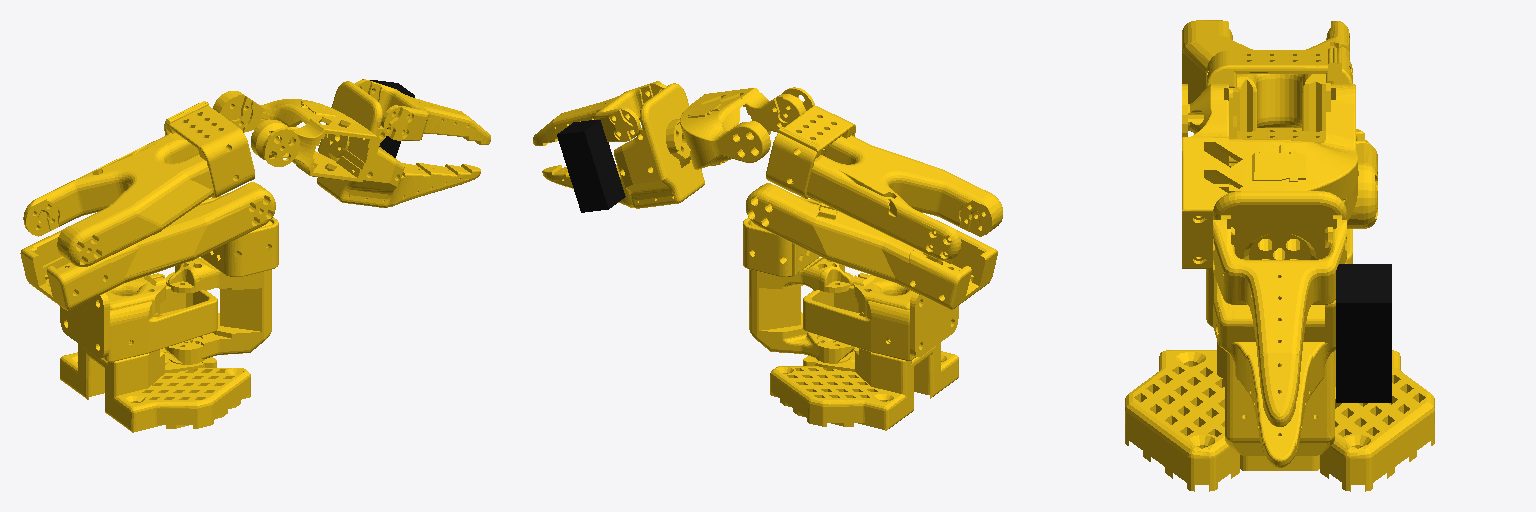
robot.urdf — so_arm100:
<?xml version='1.0' encoding='utf-8'?>
<robot name="so_arm100">
  
  <link name="world"/>
  <joint name="world_fixed" type="fixed">
    <parent link="world"/>
    <child link="base"/>
    <origin xyz="0 0 0" rpy="0 0 1.5708"/>
  </joint>

  <material name="3d_printed"><color rgba="1.0 0.82 0.12 1.0"/></material>
  <material name="sts3215"><color rgba="0.1 0.1 0.1 1.0"/></material>

  <link name="base">
    <inertial>
      <mass value="1.0"/>
      <origin xyz="0 0 0" rpy="0 0 0"/>
      <inertia ixx="0.01" ixy="0" ixz="0" iyy="0.01" iyz="0" izz="0.01"/>
    </inertial>
    <visual>
      <geometry><mesh filename="package://so_arm100_gym_description/models/so_arm100/assets/Base.dae"/></geometry>
      <material name="3d_printed"/>
    </visual>
    <collision>
      <geometry>
        <box size="0.1 0.1 0.1"/>
      </geometry>
    </collision>
  </link>

  <link name="shoulder">
    <inertial>
      <mass value="0.119226"/>
      <origin xyz="-9.07886e-05 0.0590972 0.031089" rpy="0 0 0"/>
      <inertia ixx="5.94278e-05" ixy="0" ixz="0" iyy="5.89975e-05" iyz="0" izz="3.13712e-05"/>
    </inertial>
    <visual>
      <geometry><mesh filename="package://so_arm100_gym_description/models/so_arm100/assets/Rotation_Pitch.dae"/></geometry>
      <material name="3d_printed"/>
    </visual>
    <collision>
      <geometry>
        <box size="0.06 0.09 0.065"/>
      </geometry>
    </collision>
  </link>

  <link name="upper_arm">
    <inertial>
      <mass value="0.162409"/>
      <origin xyz="-1.72052e-05 0.0701802 0.00310545" rpy="0 0 0"/>
      <inertia ixx="0.000213312" ixy="0" ixz="0" iyy="0.000167164" iyz="0" izz="7.01522e-05"/>
    </inertial>
    <visual>
      <geometry><mesh filename="package://so_arm100_gym_description/models/so_arm100/assets/Upper_Arm.dae"/></geometry>
      <material name="3d_printed"/>
    </visual>
    <collision>
      <geometry>
        <box size="0.08 0.1535 0.025"/>
      </geometry>
    </collision>
  </link>

  <link name="lower_arm">
    <inertial>
      <mass value="0.147968"/>
      <origin xyz="-0.00339604 0.00137796 0.0768007" rpy="0 0 0"/>
      <inertia ixx="0.000138803" ixy="0" ixz="0" iyy="0.000107748" iyz="0" izz="4.84242e-05"/>
    </inertial>
    <visual>
      <geometry><mesh filename="package://so_arm100_gym_description/models/so_arm100/assets/Lower_Arm.dae"/></geometry>
      <material name="3d_printed"/>
    </visual>
    <collision>
      <geometry>
        <box size="0.06 0.04 0.12"/>
      </geometry>
    </collision>
  </link>

  <link name="wrist">
    <inertial>
      <mass value="0.0661321"/>
      <origin xyz="-0.00852653 -0.0352279 -2.34622e-05" rpy="0 0 0"/>
      <inertia ixx="3.45403e-05" ixy="0" ixz="0" iyy="2.39041e-05" iyz="0" izz="1.94704e-05"/>
    </inertial>
    <visual>
      <geometry><mesh filename="package://so_arm100_gym_description/models/so_arm100/assets/Wrist_Pitch_Roll.dae"/></geometry>
      <material name="3d_printed"/>
    </visual>
    <collision>
      <geometry>
        <box size="0.065 0.075 0.035"/>
      </geometry>
    </collision>
  </link>

  <link name="gripper">
    <inertial>
      <mass value="0.1"/> <origin xyz="0.0055 -0.0280 0.0004" rpy="0 0 0"/>
      <inertia ixx="0.0001" ixy="0" ixz="0" iyy="0.0001" iyz="0" izz="0.0001"/>
    </inertial>
    <visual>
      <geometry><mesh filename="package://so_arm100_gym_description/models/so_arm100/assets/Fixed_Jaw.dae"/></geometry>
      <material name="3d_printed"/>
    </visual>
    <collision>
      <geometry>
        <box size="0.05 0.105 0.065"/>
      </geometry>
    </collision>
  </link>

  <link name="jaw">
    <inertial>
      <mass value="0.1"/> <origin xyz="-0.0016 -0.0303 0.0004" rpy="0 0 0"/>
      <inertia ixx="0.0001" ixy="0" ixz="0" iyy="0.0001" iyz="0" izz="0.0001"/>
    </inertial>
    <visual>
      <geometry><mesh filename="package://so_arm100_gym_description/models/so_arm100/assets/Moving_Jaw.dae"/></geometry>
      <material name="3d_printed"/>
    </visual>
    <collision>
      <geometry>
        <box size="0.025 0.09 0.05"/>
      </geometry>
    </collision>
  </link>

  <joint name="shoulder_pan" type="revolute">
    <parent link="base"/><child link="shoulder"/>
    <origin xyz="0 -0.0452 0.0165" rpy="1.57079 0 0"/>
    <axis xyz="0 1 0"/><limit lower="-2" upper="2" effort="35" velocity="5"/>
    <dynamics damping="0.1" friction="0.05"/>
  </joint>

  <joint name="shoulder_lift" type="revolute">
    <parent link="shoulder"/><child link="upper_arm"/>
    <origin xyz="0 0.1025 0.0306" rpy="-1.8 0 0"/>
    <axis xyz="1 0 0"/><limit lower="0" upper="3.5" effort="35" velocity="5"/>
    <dynamics damping="0.1" friction="0.05"/>
  </joint>

  <joint name="elbow_flex" type="revolute">
    <parent link="upper_arm"/><child link="lower_arm"/>
    <origin xyz="0 0.11257 0.028" rpy="1.57079 0 0"/>
    <axis xyz="1 0 0"/><limit lower="-3.14158" upper="0" effort="35" velocity="5"/>
    <dynamics damping="0.1" friction="0.05"/>
  </joint>

  <joint name="wrist_flex" type="revolute">
    <parent link="lower_arm"/><child link="wrist"/>
    <origin xyz="0 0.0052 0.1349" rpy="-1 0 0"/>
    <axis xyz="1 0 0"/>
    <limit lower="-2.5" upper="1.2" effort="35" velocity="5"/>
    <dynamics damping="1.5" friction="0.5"/> 
  </joint>

  <joint name="wrist_roll" type="revolute">
    <parent link="wrist"/><child link="gripper"/>
    <origin xyz="0 -0.0601 0" rpy="0 1.57079 0"/>
    <axis xyz="0 1 0"/><limit lower="-3.14158" upper="3.14158" effort="35" velocity="5"/>
    <dynamics damping="0.1" friction="0.1"/>
  </joint>

  <joint name="gripper_joint" type="revolute">
    <parent link="gripper"/><child link="jaw"/>
    <origin xyz="-0.0202 -0.0244 0" rpy="0 3.14158 0"/>
    <axis xyz="0 0 1"/>
    <limit lower="-0.2" upper="2.0" effort="10" velocity="3"/>
    <dynamics damping="1.0" friction="0.8"/> 
  </joint>

  <link name="camera_link">
    <visual>
      <origin xyz="0 0 0" rpy="0 0 0"/>
      <geometry>
        <box size="0.02 0.05 0.02"/>
      </geometry>
      <material name="sts3215"/>
    </visual>
  </link>

  <joint name="camera_joint" type="fixed">
    <parent link="gripper"/>
    <child link="camera_link"/>
    <origin xyz="0 -0.05 0.03" rpy="0 0 -1.5708"/> 
  </joint>

  <link name="camera_link_optical"/>
  <joint name="camera_optical_joint" type="fixed">
    <origin xyz="0 0 0" rpy="-1.5708 0 -1.5708"/>
    <parent link="camera_link"/>
    <child link="camera_link_optical"/>
  </joint>

  <gazebo>
    <plugin
      filename="gz-sim-joint-state-publisher-system"
      name="gz::sim::systems::JointStatePublisher"/>

    <plugin filename="gz-sim-joint-position-controller-system" name="gz::sim::systems::JointPositionController">
      <joint_name>shoulder_pan</joint_name>
      <p_gain>40.0</p_gain>
      <i_gain>0.01</i_gain>
      <d_gain>2.0</d_gain>
    </plugin>

    <plugin filename="gz-sim-joint-position-controller-system" name="gz::sim::systems::JointPositionController">
      <joint_name>shoulder_lift</joint_name>
      <p_gain>80.0</p_gain>
      <i_gain>0.0</i_gain>
      <d_gain>5.0</d_gain>
    </plugin>

    <plugin filename="gz-sim-joint-position-controller-system" name="gz::sim::systems::JointPositionController">
      <joint_name>elbow_flex</joint_name>
      <p_gain>40.0</p_gain>
      <i_gain>0.0</i_gain>
      <d_gain>2.0</d_gain>
    </plugin>

    <plugin filename="gz-sim-joint-position-controller-system" name="gz::sim::systems::JointPositionController">
      <joint_name>wrist_flex</joint_name>
      <p_gain>20.0</p_gain>
      <i_gain>0.0</i_gain>
      <d_gain>1.0</d_gain> <i_max>1.0</i_max>
    </plugin>

    <plugin filename="gz-sim-joint-position-controller-system" name="gz::sim::systems::JointPositionController">
      <joint_name>wrist_roll</joint_name>
      <p_gain>50.0</p_gain>
      <i_gain>0.1</i_gain>
      <d_gain>1.0</d_gain>
    </plugin>

    <plugin filename="gz-sim-joint-position-controller-system" name="gz::sim::systems::JointPositionController">
      <joint_name>gripper_joint</joint_name>
      <p_gain>100.0</p_gain>
      <i_gain>20.0</i_gain> <d_gain>0.5</d_gain>
      <i_max>2.0</i_max>
    </plugin>
  </gazebo>

  <gazebo reference="camera_link">
    <sensor name="hand_camera" type="camera">
      <pose>0 0 0 0 0 0</pose>
      <visualize>true</visualize>
      <update_rate>30</update_rate>

      <topic>arm_camera/image_raw</topic>

      <camera>
        <horizontal_fov>1.089</horizontal_fov>
        <image>
          <width>640</width>
          <height>480</height>
          <format>R8G8B8</format>
        </image>
        <clip>
          <near>0.05</near>
          <far>8.0</far>
        </clip>
      </camera>
    </sensor>
  </gazebo>
  
</robot>

--- Facts derived from the render (not from the file) ---
3 views of the same robot in one strip: view 1: azimuth 30°, elevation 25°; view 2: azimuth 150°, elevation 25°; view 3: azimuth 270°, elevation 25° (orthographic).
Model so_arm100 with 10 links and 9 joints (6 revolute, 3 fixed), rooted at world, posed all joints at 0.
Visible links, largest first — view 1: base, lower_arm, upper_arm, shoulder, wrist, gripper, jaw; view 2: base, lower_arm, upper_arm, shoulder, gripper, wrist, camera_link, jaw; view 3: base, wrist, gripper, lower_arm, jaw, camera_link, shoulder, upper_arm.
Link boxes in pixels (bbox=[...]): base: bbox=[60, 273, 250, 432]; lower_arm: bbox=[23, 101, 254, 266]; upper_arm: bbox=[20, 182, 275, 310]; shoulder: bbox=[165, 196, 278, 364]; wrist: bbox=[213, 91, 376, 182]; gripper: bbox=[317, 81, 480, 207]; jaw: bbox=[355, 79, 490, 144]; base: bbox=[770, 273, 958, 430]; lower_arm: bbox=[766, 106, 1002, 260]; upper_arm: bbox=[746, 183, 997, 309]; shoulder: bbox=[743, 196, 854, 363]; gripper: bbox=[542, 83, 704, 208]; wrist: bbox=[680, 87, 814, 169]; camera_link: bbox=[557, 120, 625, 212]; jaw: bbox=[533, 81, 666, 145]; base: bbox=[1125, 342, 1434, 491]; wrist: bbox=[1182, 84, 1358, 268]; gripper: bbox=[1213, 191, 1346, 467]; lower_arm: bbox=[1182, 20, 1352, 162]; jaw: bbox=[1213, 215, 1346, 426]; camera_link: bbox=[1336, 264, 1391, 402]; shoulder: bbox=[1206, 229, 1352, 455]; upper_arm: bbox=[1229, 129, 1377, 228].
Size in the robot's own frame: 0.3041 by 0.1109 by 0.169 metres.
7 mesh visuals loaded from 7 distinct referenced files (7 Collada DAE).
